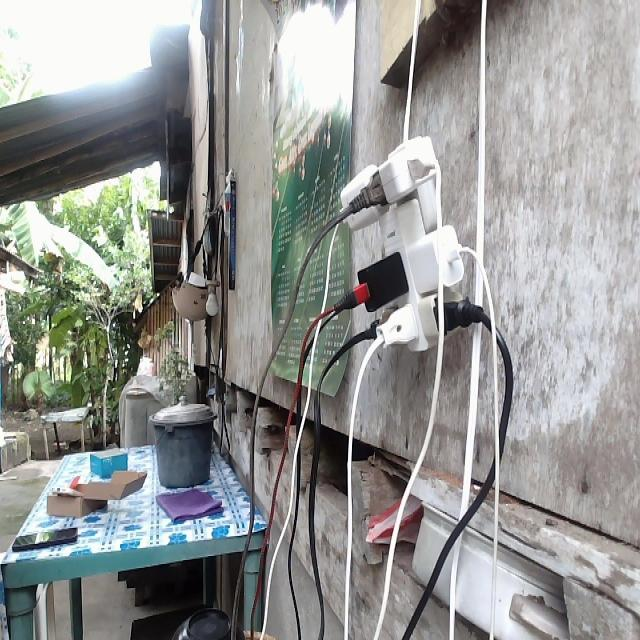-: (331, 133, 476, 355)
